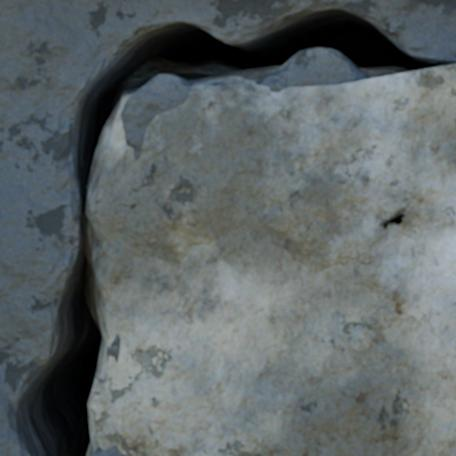brick: (90, 64, 455, 455)
crack: (2, 0, 453, 455)
